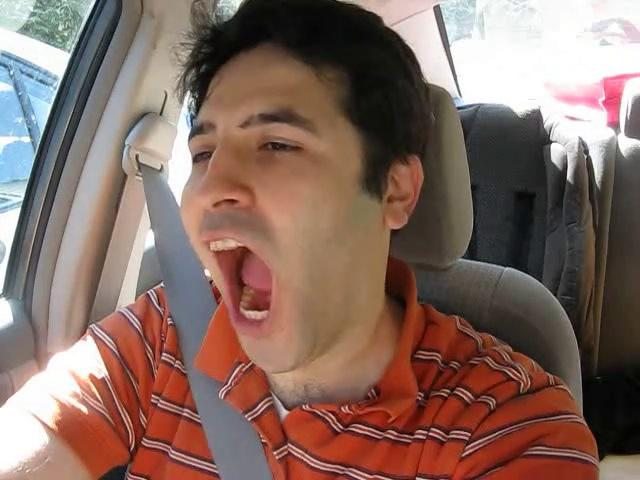close_eyeL: (184, 132, 221, 177)
close_eyeR: (241, 123, 324, 171)
yawn: (185, 224, 306, 343)
